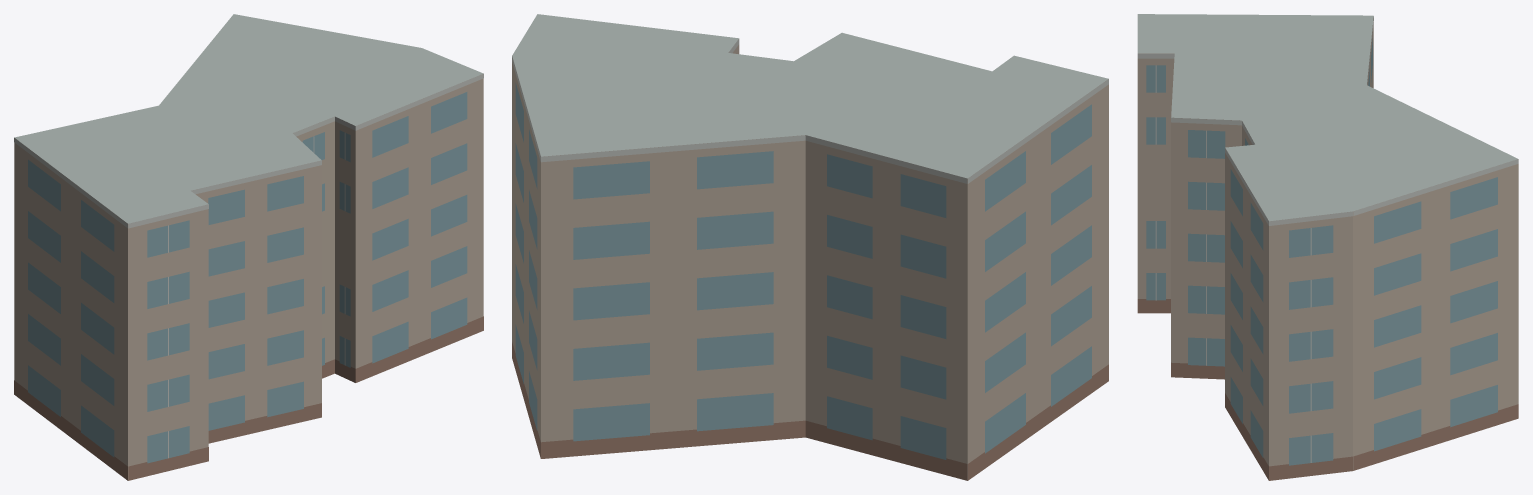
The model's file is survey-upis-32579887.glb.
3 renders of one model, left to right at view 1: azimuth 30°, elevation 25°; view 2: azimuth 150°, elevation 25°; view 3: azimuth 270°, elevation 25°, orthographic. The views are drawn at different scales.
Visible parts, largest first — view 1: survey-upis-32579887.tmp; view 2: survey-upis-32579887.tmp; view 3: survey-upis-32579887.tmp.
Part boxes in pixels (x1=…): survey-upis-32579887.tmp: x1=14, y1=14, x2=483, y2=480; survey-upis-32579887.tmp: x1=512, y1=14, x2=1108, y2=480; survey-upis-32579887.tmp: x1=1137, y1=14, x2=1518, y2=480.
Bounding box in the file's own units: 22.62 × 13.2 × 17.57.
